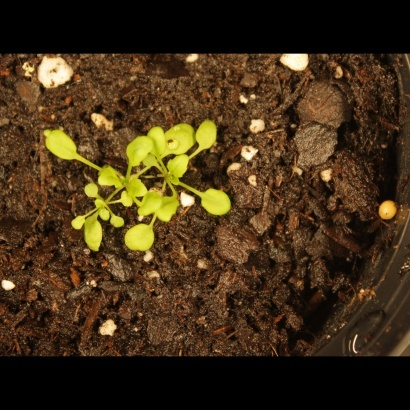leaf: (36, 126, 80, 162), (161, 123, 198, 156), (124, 223, 158, 254), (195, 117, 223, 152), (202, 186, 233, 217), (147, 124, 171, 161), (124, 134, 152, 165), (82, 217, 105, 253), (168, 151, 194, 181), (95, 162, 123, 189), (126, 172, 151, 199), (156, 196, 180, 223), (63, 212, 86, 235), (110, 212, 133, 235), (78, 183, 101, 206), (114, 188, 137, 211)
